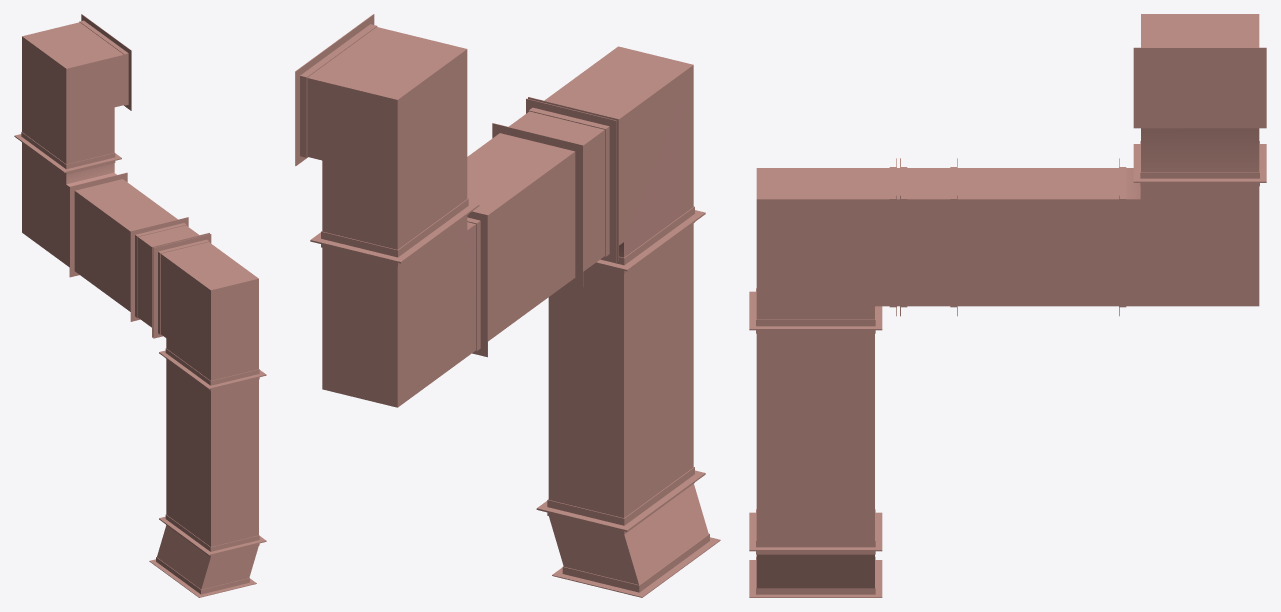
The model's file is HULDRA-HB-HVAC.gltf.
3 renders of one model, left to right at view 1: azimuth 30°, elevation 25°; view 2: azimuth 150°, elevation 25°; view 3: azimuth 270°, elevation 25°, orthographic. The views are drawn at different scales.
Visible parts, largest first — view 1: /20-A-00-274-5_Mesh.18395, /20-A-00-274-1_Mesh.18386, /20-A-00-274-4_Mesh.18393, Box_Mesh.18389, /20-A-00-274-2_Mesh.18388, /20-A-00-274-6_Mesh.18396, /20-A-00-274-3_Mesh.18391; view 2: /20-A-00-274-5_Mesh.18395, /20-A-00-274-1_Mesh.18386, /20-A-00-274-2_Mesh.18388, /20-A-00-274-4_Mesh.18393, Box_Mesh.18389, /20-A-00-274-6_Mesh.18396, /20-A-00-274-3_Mesh.18391; view 3: /20-A-00-274-5_Mesh.18395, /20-A-00-274-4_Mesh.18393, Box_Mesh.18389, /20-A-00-274-1_Mesh.18386, /20-A-00-274-2_Mesh.18388, /20-A-00-274-3_Mesh.18391, /20-A-00-274-6_Mesh.18396, /20-A-00-274-4.1_Mesh.18394, /20-A-00-274-2.1_Mesh.18390.
Part boxes in pixels (bbox=[...]): /20-A-00-274-5_Mesh.18395: bbox=[159, 353, 266, 555]; /20-A-00-274-1_Mesh.18386: bbox=[14, 14, 131, 172]; /20-A-00-274-4_Mesh.18393: bbox=[153, 234, 266, 388]; Box_Mesh.18389: bbox=[74, 179, 177, 311]; /20-A-00-274-2_Mesh.18388: bbox=[14, 136, 127, 277]; /20-A-00-274-6_Mesh.18396: bbox=[149, 519, 266, 597]; /20-A-00-274-3_Mesh.18391: bbox=[130, 217, 209, 337]; /20-A-00-274-5_Mesh.18395: bbox=[536, 213, 705, 530]; /20-A-00-274-1_Mesh.18386: bbox=[295, 14, 479, 262]; /20-A-00-274-2_Mesh.18388: bbox=[310, 206, 487, 407]; /20-A-00-274-4_Mesh.18393: bbox=[528, 46, 705, 270]; Box_Mesh.18389: bbox=[467, 133, 575, 341]; /20-A-00-274-6_Mesh.18396: bbox=[536, 474, 720, 597]; /20-A-00-274-3_Mesh.18391: bbox=[492, 98, 616, 287]; /20-A-00-274-5_Mesh.18395: bbox=[749, 329, 882, 550]; /20-A-00-274-4_Mesh.18393: bbox=[749, 158, 896, 329]; Box_Mesh.18389: bbox=[957, 168, 1118, 306]; /20-A-00-274-1_Mesh.18386: bbox=[1133, 14, 1266, 182]; /20-A-00-274-2_Mesh.18388: bbox=[1119, 158, 1266, 316]; /20-A-00-274-3_Mesh.18391: bbox=[900, 158, 957, 316]; /20-A-00-274-6_Mesh.18396: bbox=[749, 550, 882, 597]; /20-A-00-274-4.1_Mesh.18394: bbox=[759, 201, 872, 304]; /20-A-00-274-2.1_Mesh.18390: bbox=[1144, 201, 1256, 303].
Size of the model in its own units: 0.8 by 4.2 by 3.5.
